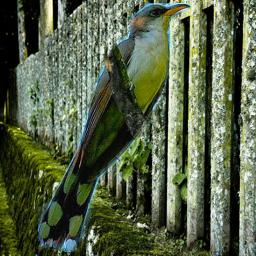Cuckoo: (38, 3, 191, 252)
